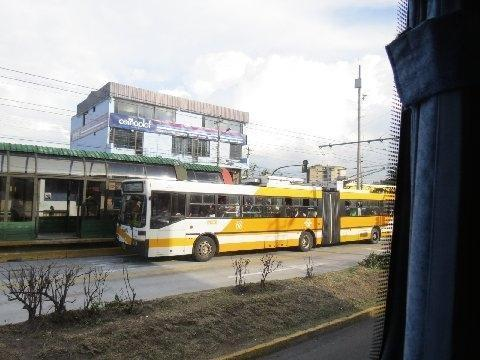bus: (114, 178, 396, 262)
